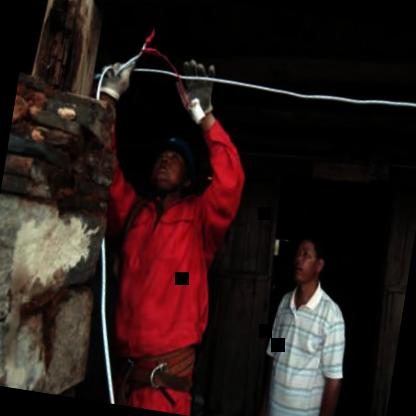head: (283, 230, 335, 292)
helmet: (140, 130, 200, 202)
